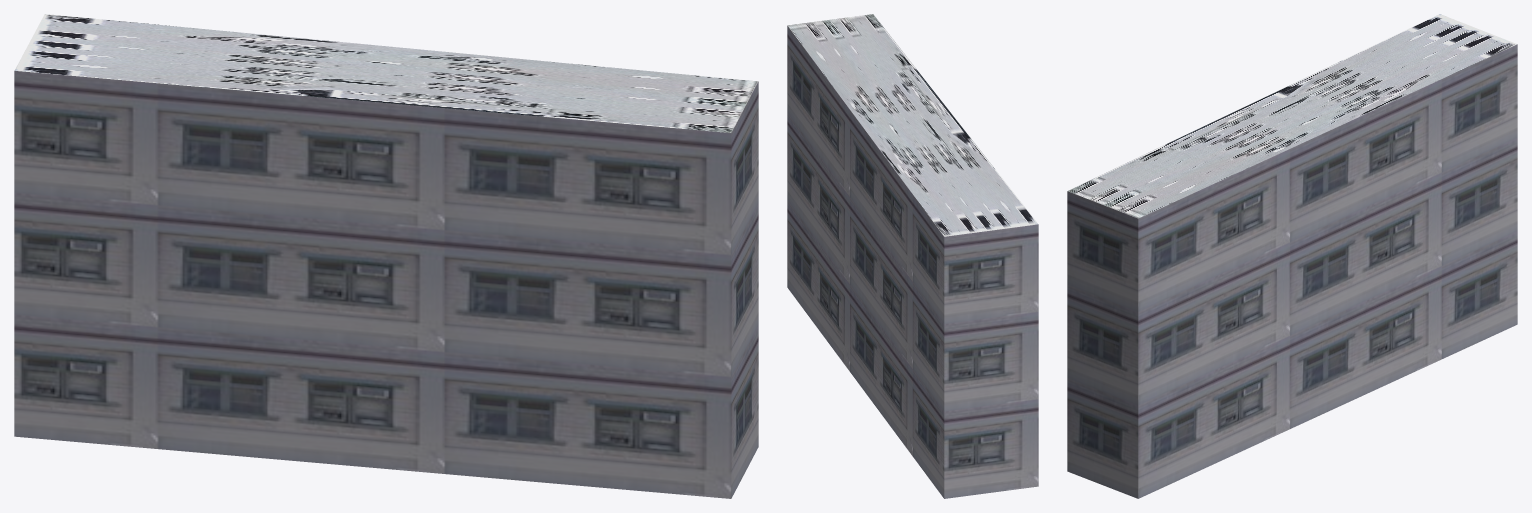
Rendered from ResTex__3426.fbx.
3 views of the same model, side by side, from view 1: azimuth 30°, elevation 25°; view 2: azimuth 150°, elevation 25°; view 3: azimuth 270°, elevation 25° (orthographic). The views are drawn at different scales.
Parts seen in each view (by area): view 1: CityEngineMaterial_1_m, CityEngineMaterial_m; view 2: CityEngineMaterial_1_m, CityEngineMaterial_m; view 3: CityEngineMaterial_1_m, CityEngineMaterial_m.
Boxes of the visible parts, x1=… form: CityEngineMaterial_1_m: x1=14, y1=71, x2=758, y2=498; CityEngineMaterial_m: x1=14, y1=14, x2=758, y2=132; CityEngineMaterial_1_m: x1=787, y1=26, x2=1038, y2=498; CityEngineMaterial_m: x1=787, y1=14, x2=1037, y2=236; CityEngineMaterial_1_m: x1=1067, y1=44, x2=1517, y2=498; CityEngineMaterial_m: x1=1067, y1=14, x2=1516, y2=218.
Bounding box in the file's own units: 14.09 × 9 × 13.1.
Materials: 2 (2 with a texture image).
